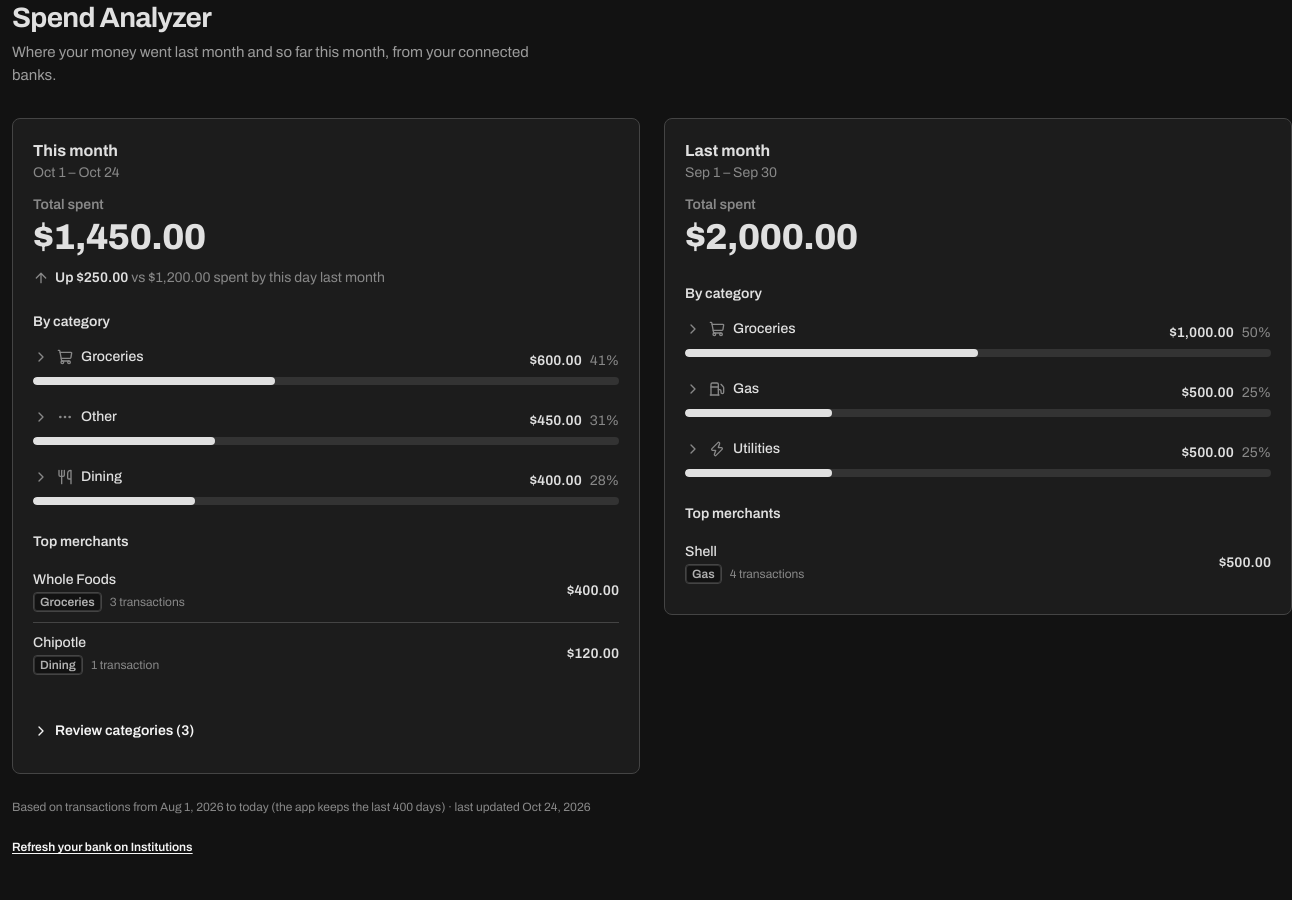
Test: SpendingView › changing categories › keeps the transaction list collapsed until asked, then shows category and where it came from
The image size is (1292, 900).
Step 1. Click the button with test id "spending-transactions-toggle-this-month" → (114, 731), box [33,709,194,753]
(page scrolled)
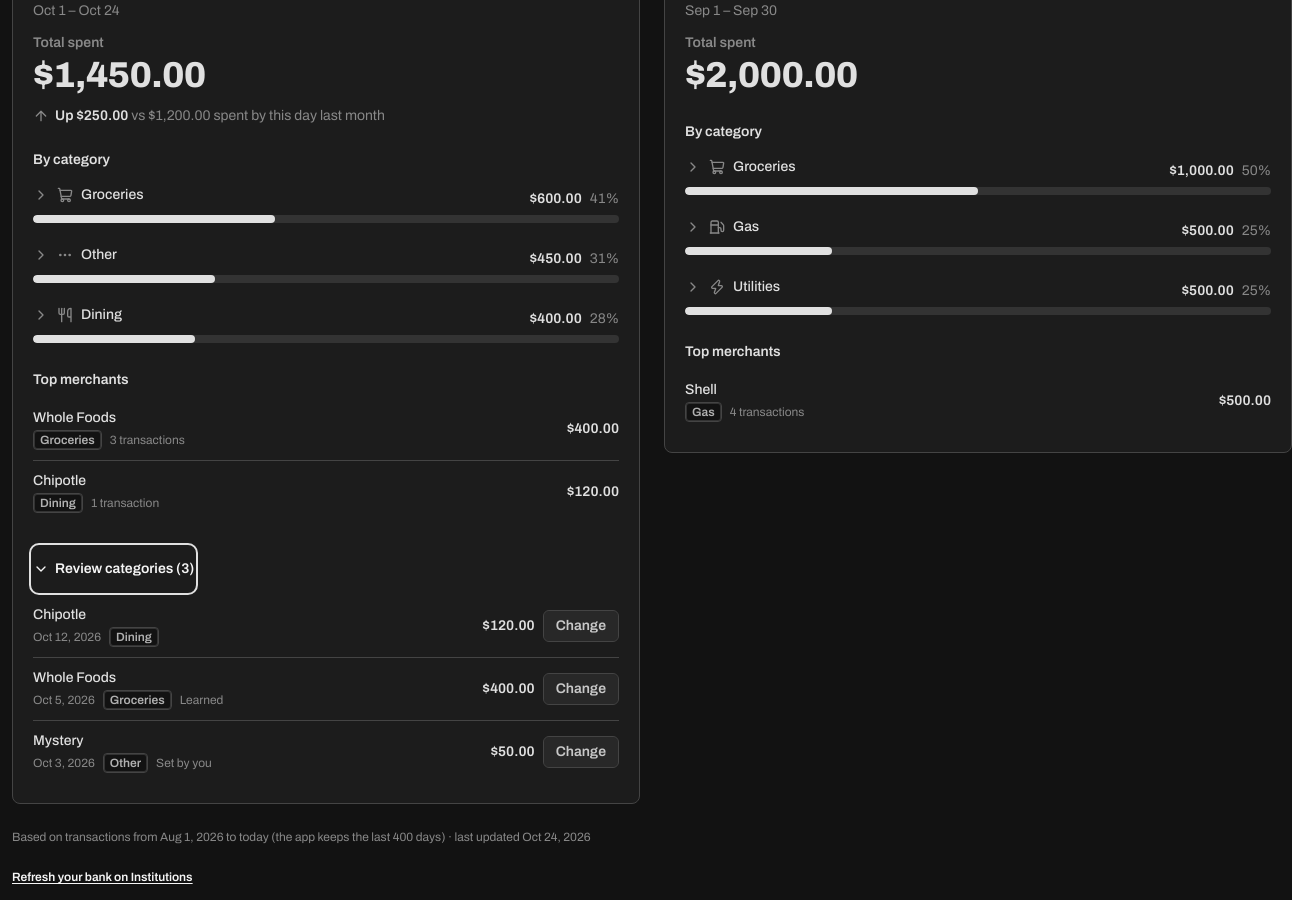
Check: the button with test id "spending-transactions-toggle-this-month" is expanded, box [33,547,194,591]
Check: the number of list items with test id "spending-transaction-row" is 3, box [33,595,619,658]; [33,658,619,721]; [33,721,619,783]
Check: the list item with test id "spending-transaction-row" shows "Chipotle", box [33,607,86,622]
